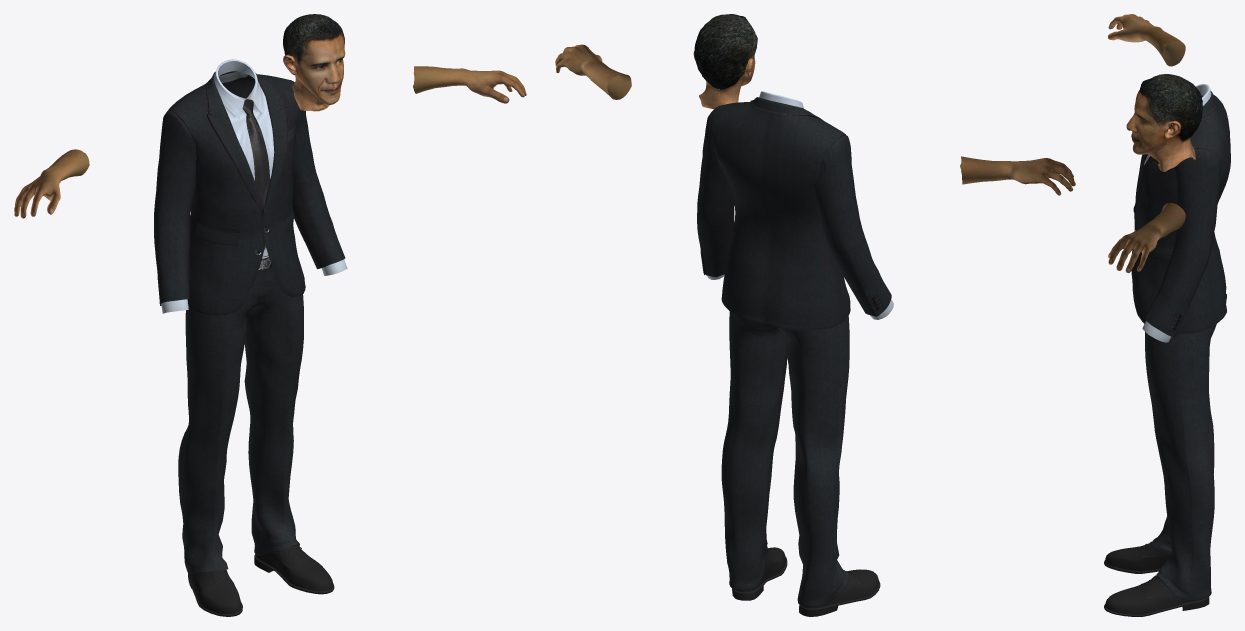
The model's file is man3.fbx.
3 renders of one model, left to right at view 1: azimuth 30°, elevation 25°; view 2: azimuth 150°, elevation 25°; view 3: azimuth 270°, elevation 25°, orthographic. The views are drawn at different scales.
Visible parts, largest first — view 1: An_NanGongMo_Dress_Cloth_004, An_NanGongMo_Dress_Pants_004, aobama_mod, An_NanGongMo_Dress_Shoes_004, An_NanGongMo_Hand, An_NanGongMo_Elbow_B; view 2: An_NanGongMo_Dress_Cloth_004, An_NanGongMo_Dress_Pants_004, aobama_mod, An_NanGongMo_Elbow_B, An_NanGongMo_Dress_Shoes_004, An_NanGongMo_Hand; view 3: An_NanGongMo_Dress_Cloth_004, An_NanGongMo_Dress_Pants_004, aobama_mod, An_NanGongMo_Dress_Shoes_004, An_NanGongMo_Hand, An_NanGongMo_Elbow_B.
Part boxes in pixels (<box>): An_NanGongMo_Dress_Cloth_004: <box>154,59,347,315</box>; An_NanGongMo_Dress_Pants_004: <box>178,255,303,573</box>; aobama_mod: <box>283,14,345,111</box>; An_NanGongMo_Dress_Shoes_004: <box>188,545,334,616</box>; An_NanGongMo_Hand: <box>14,70,526,218</box>; An_NanGongMo_Elbow_B: <box>40,66,474,183</box>; An_NanGongMo_Dress_Cloth_004: <box>697,91,893,330</box>; An_NanGongMo_Dress_Pants_004: <box>721,311,849,606</box>; aobama_mod: <box>693,14,757,109</box>; An_NanGongMo_Elbow_B: <box>580,57,1022,184</box>; An_NanGongMo_Dress_Shoes_004: <box>732,547,880,616</box>; An_NanGongMo_Hand: <box>555,44,1075,195</box>; An_NanGongMo_Dress_Cloth_004: <box>1131,84,1230,342</box>; An_NanGongMo_Dress_Pants_004: <box>1145,324,1216,600</box>; aobama_mod: <box>1126,74,1202,171</box>; An_NanGongMo_Dress_Shoes_004: <box>1104,541,1209,616</box>; An_NanGongMo_Hand: <box>1108,14,1157,273</box>; An_NanGongMo_Elbow_B: <box>1139,24,1185,240</box>.
Size of the model in its own units: 689 by 711 by 151.
